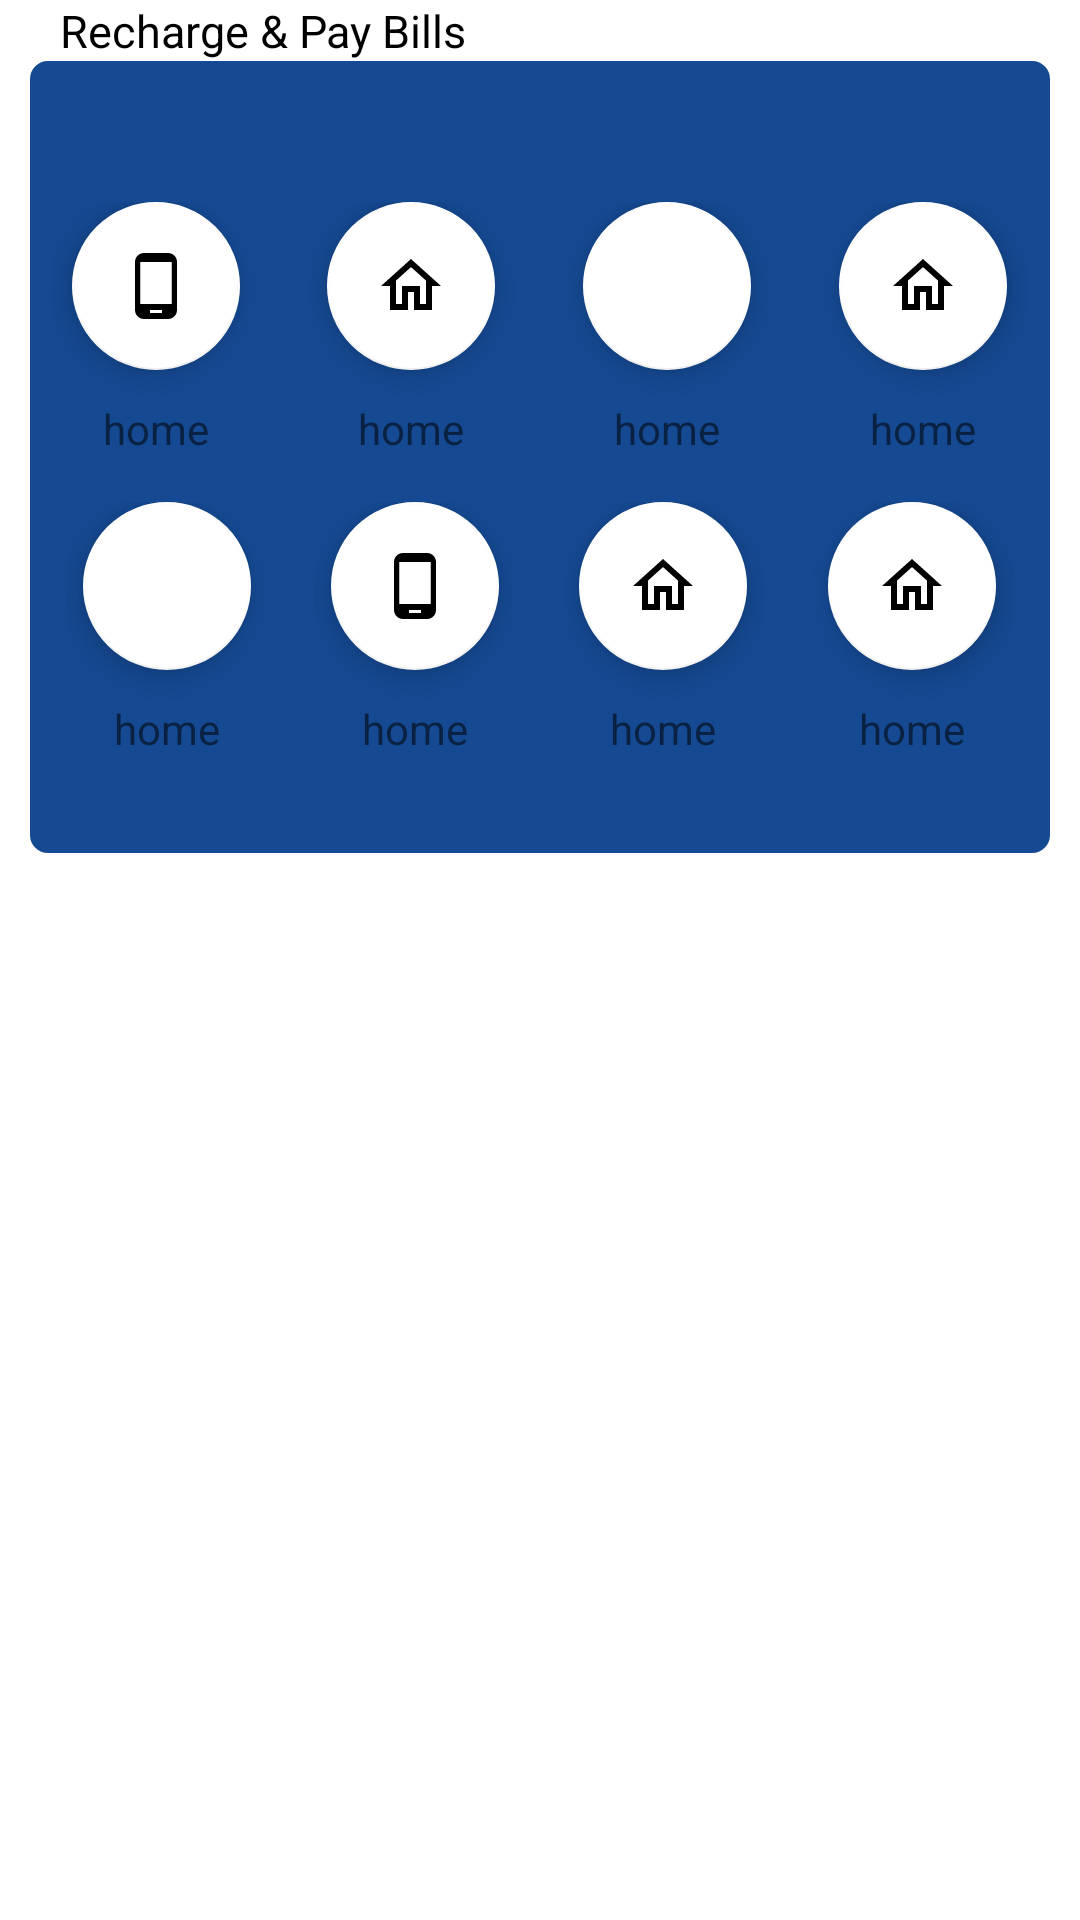

Screen size 1080*1920. Icon name, then its center in pixels as (x=x, y=y):
phone: (x=156, y=286), (x=415, y=586)
